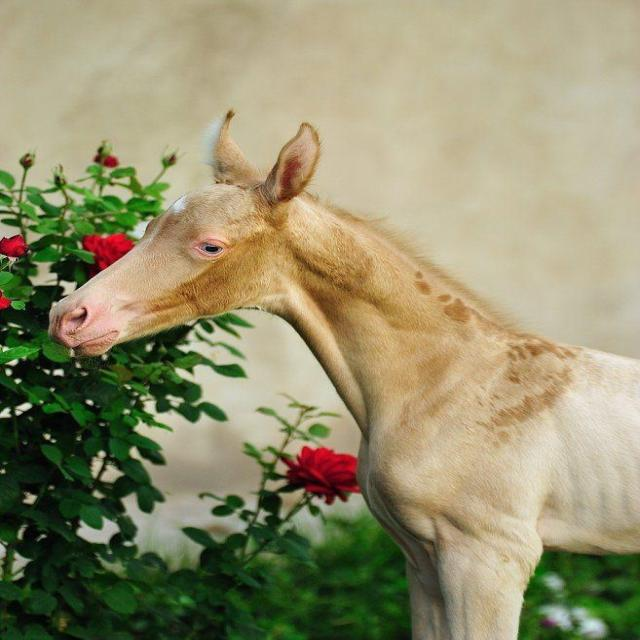horse: (46, 108, 639, 639)
